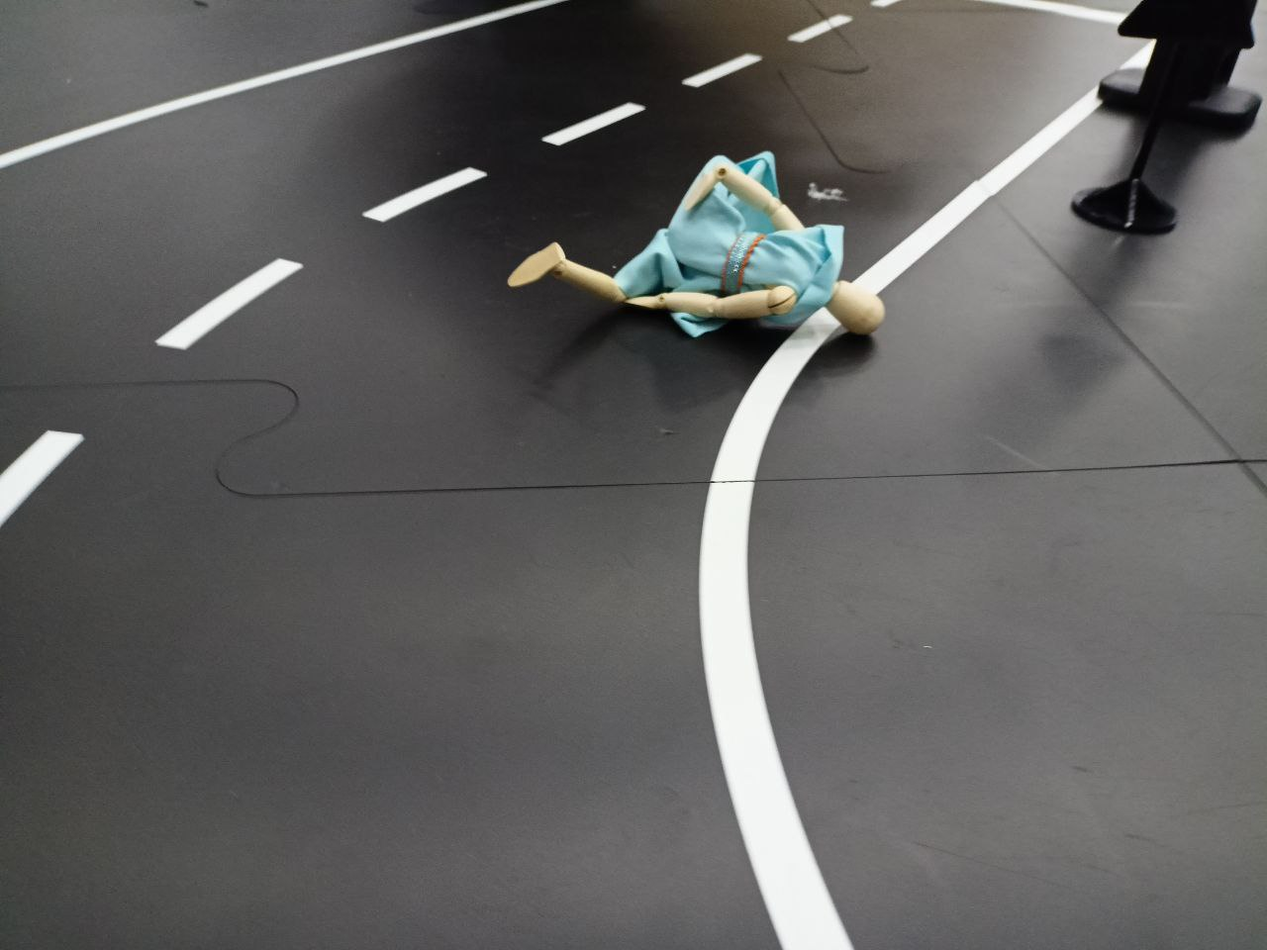Road works: (476, 143, 915, 343)
